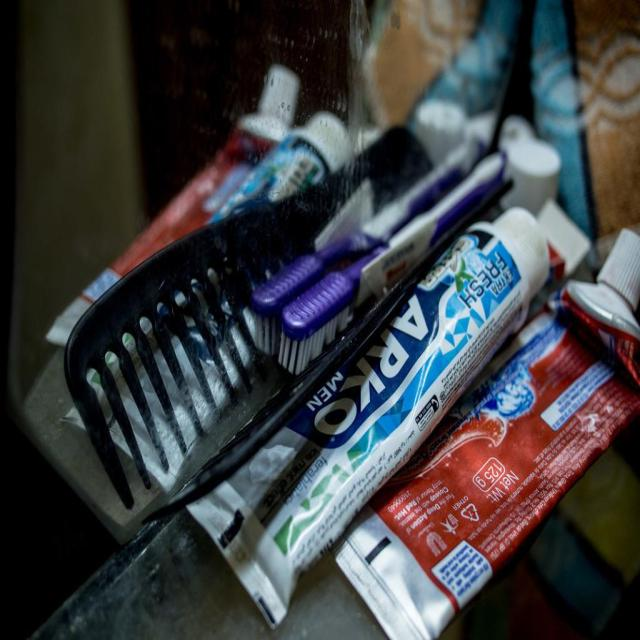Toothpaste: (203, 197, 640, 640)
